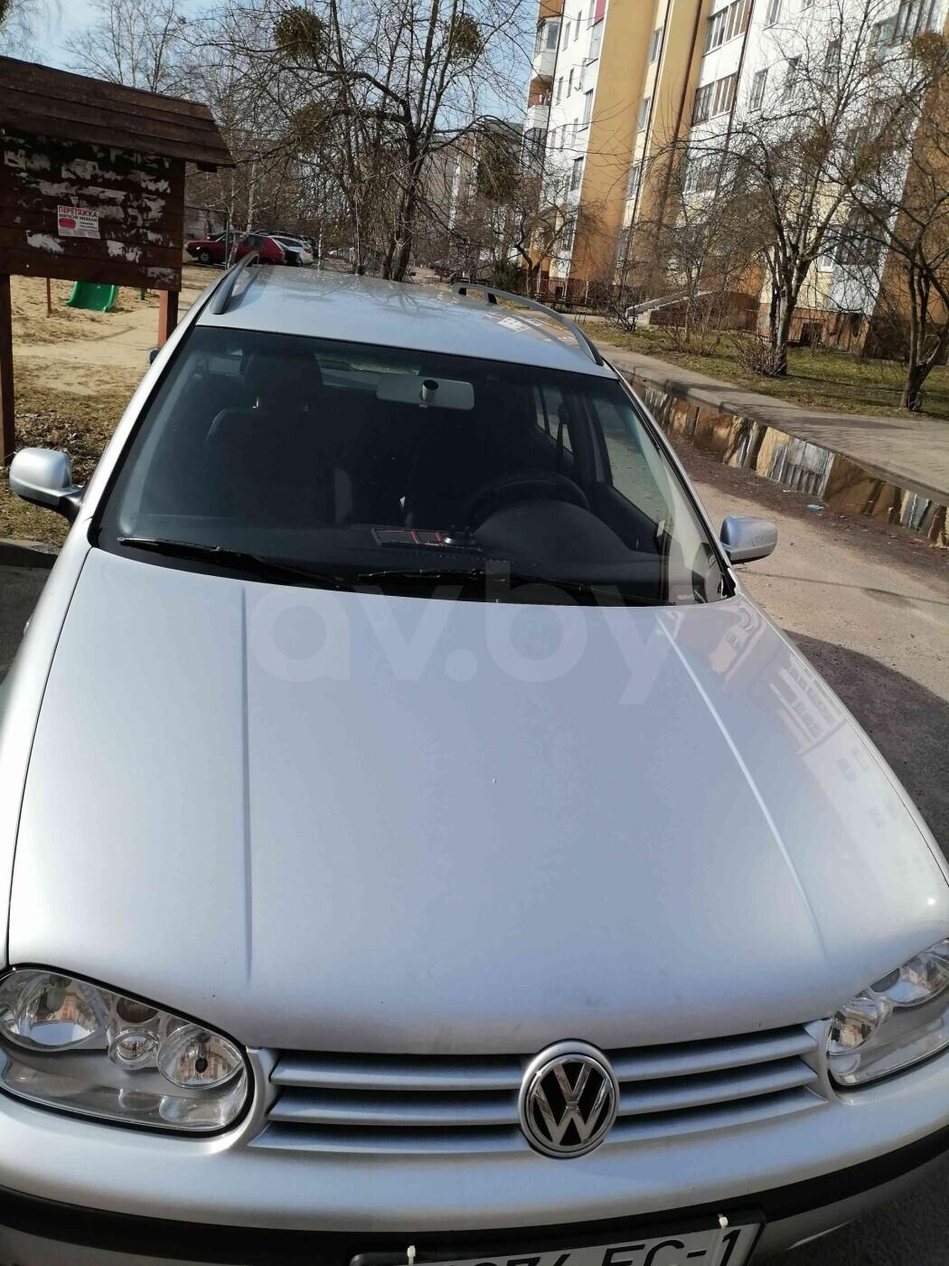Golf_1997-2006: (0, 256, 949, 1266)
